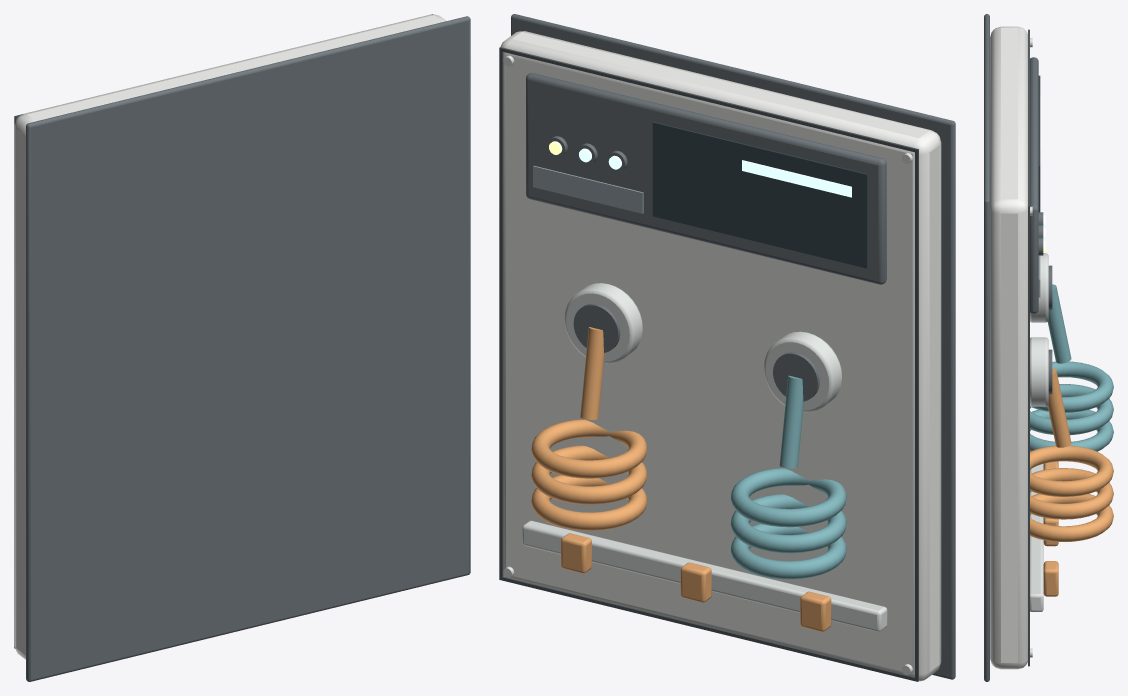
File: suit_service_panel.glb
The picture shows the model from 3 angles, left to right: view 1: azimuth 30°, elevation 25°; view 2: azimuth 150°, elevation 25°; view 3: azimuth 270°, elevation 25°; orthographic projection. The views are drawn at different scales.
Visible parts, largest first — view 1: service_backplate_graphite, service_body_white_painted; view 2: service_body_white_painted, status_head_graphite, display_screen_glass_dark_glass, service_backplate_graphite, hose_0_teal, hose_1_orange, service_seam_black_rubber, valve_rail_satin_steel, valve_handles_orange, port_0_collar_satin_steel, port_1_collar_satin_steel, name_plate_slate_panel (+3 smaller); view 3: service_body_white_painted, hose_1_orange, hose_0_teal, service_backplate_graphite, status_head_graphite, port_1_collar_satin_steel, service_seam_black_rubber, valve_rail_satin_steel, valve_handles_orange, port_0_collar_satin_steel, display_screen_glass_dark_glass, port_0_socket_graphite (+1 smaller).
Part boxes in pixels (x1=…): service_backplate_graphite: x1=26, y1=16, x2=470, y2=681; service_body_white_painted: x1=14, y1=14, x2=446, y2=659; service_body_white_painted: x1=500, y1=31, x2=941, y2=681; status_head_graphite: x1=526, y1=73, x2=886, y2=284; display_screen_glass_dark_glass: x1=652, y1=122, x2=867, y2=268; service_backplate_graphite: x1=511, y1=14, x2=955, y2=679; hose_0_teal: x1=730, y1=375, x2=846, y2=579; hose_1_orange: x1=531, y1=327, x2=647, y2=530; service_seam_black_rubber: x1=499, y1=47, x2=918, y2=681; valve_rail_satin_steel: x1=522, y1=520, x2=887, y2=631; valve_handles_orange: x1=561, y1=533, x2=831, y2=631; port_0_collar_satin_steel: x1=764, y1=331, x2=842, y2=412; port_1_collar_satin_steel: x1=564, y1=283, x2=642, y2=363; name_plate_slate_panel: x1=533, y1=165, x2=643, y2=213; service_body_white_painted: x1=990, y1=26, x2=1027, y2=669; hose_1_orange: x1=1030, y1=368, x2=1113, y2=541; hose_0_teal: x1=1030, y1=284, x2=1113, y2=451; service_backplate_graphite: x1=984, y1=14, x2=989, y2=681; status_head_graphite: x1=1030, y1=57, x2=1038, y2=313; port_1_collar_satin_steel: x1=1030, y1=337, x2=1048, y2=406; service_seam_black_rubber: x1=1028, y1=29, x2=1029, y2=666; valve_rail_satin_steel: x1=1030, y1=464, x2=1043, y2=611; valve_handles_orange: x1=1043, y1=461, x2=1058, y2=596; port_0_collar_satin_steel: x1=1030, y1=253, x2=1048, y2=322; display_screen_glass_dark_glass: x1=1038, y1=75, x2=1040, y2=212; port_0_socket_graphite: x1=1048, y1=265, x2=1052, y2=310.
Bounding box in the file's own units: 0.89 × 1.07 × 0.261.
